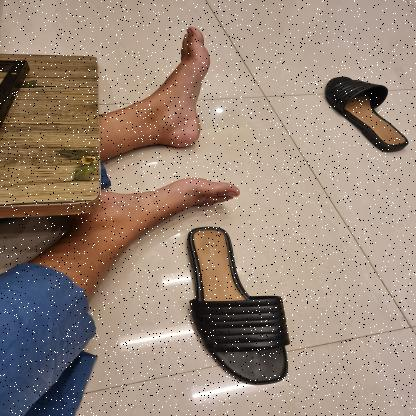leg: (35, 172, 250, 294), (96, 18, 220, 159)
